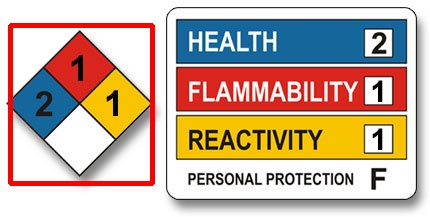nfpa: (10, 25, 152, 183)
